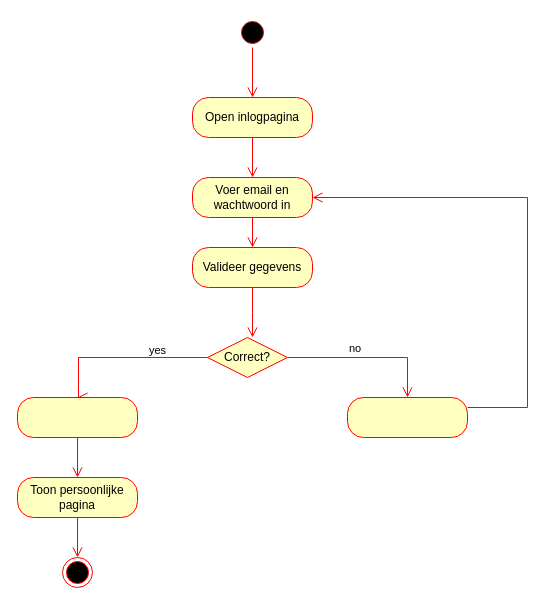
Some shapes in this 555 by 605 pixel diagram are drawn without their labels. Here are the shapes that lost their labels. From the top down, the centre of each, then its label:
At point 77,417: "Login gebruiker".
At point 407,417: "Toon foutmelding".
